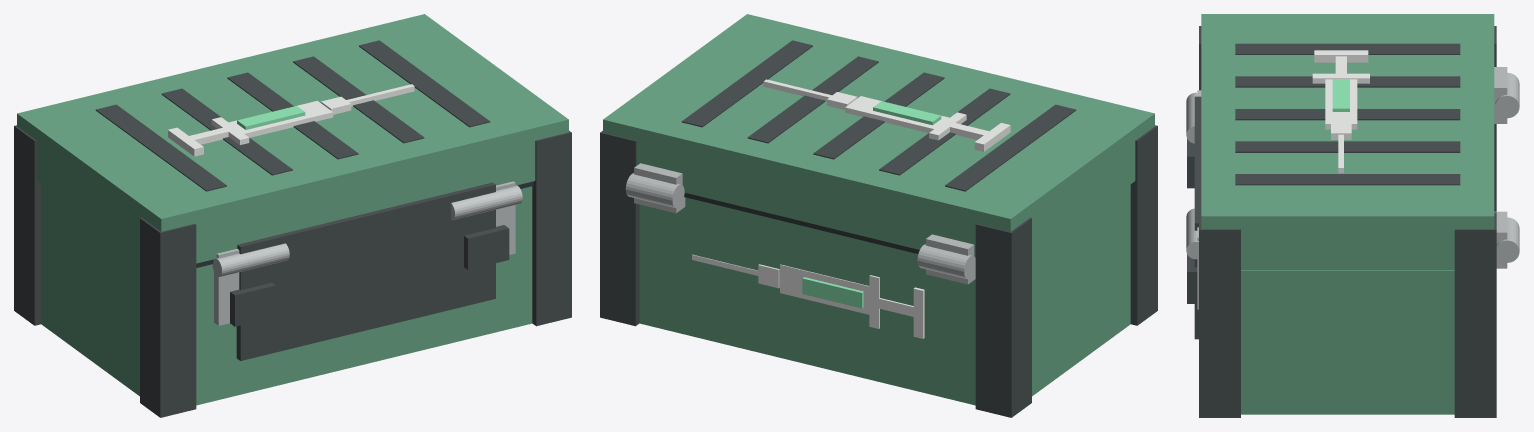
File: 12_antidote.glb
3 renders of one model, left to right at view 1: azimuth 30°, elevation 25°; view 2: azimuth 150°, elevation 25°; view 3: azimuth 270°, elevation 25°, orthographic.
Parts seen in each view (by area): view 1: Lid.002, LowerCase.002, FrontLabelPlate.002, Corner_-0.5_-0.002, Corner_0.5_-0.002, Corner_-0.5_0.002, TopRib_-0.004, TopRib_0.004, TopRib_0.005, TopRib_0.006, TopRib_-0.003, LatchTab_-0.002 (+9 smaller); view 2: Lid.002, LowerCase.002, Corner_-0.5_0.002, Corner_0.5_0.002, Corner_-0.5_-0.002, TopRib_-0.004, TopRib_0.004, TopRib_0.005, TopRib_0.006, TopRib_-0.003, SyringeTop_Barrel, HingePin_-0.003 (+11 smaller); view 3: Lid.002, LowerCase.002, Corner_0.5_0.002, Corner_0.5_-0.002, TopRib_0.004, TopRib_0.005, TopRib_-0.004, TopRib_0.006, TopRib_-0.003, FrontLabelPlate.002, SyringeTop_Barrel.001, HingePin_-0.003 (+12 smaller).
Boxes of the visible parts, box(x1,y1,x2,y2) form: Lid.002: box(17, 14, 568, 263); LowerCase.002: box(41, 184, 532, 405); FrontLabelPlate.002: box(236, 182, 495, 360); Corner_-0.5_-0.002: box(140, 217, 196, 417); Corner_0.5_-0.002: box(532, 131, 571, 326); Corner_-0.5_0.002: box(14, 125, 41, 325); TopRib_-0.004: box(95, 104, 226, 191); TopRib_0.004: box(359, 40, 490, 127); TopRib_0.005: box(293, 56, 424, 143); TopRib_0.006: box(227, 72, 358, 159); TopRib_-0.003: box(161, 88, 292, 175); LatchTab_-0.002: box(230, 282, 276, 326); Lid.002: box(603, 14, 1154, 257); LowerCase.002: box(639, 184, 1130, 405); Corner_-0.5_0.002: box(975, 217, 1031, 417); Corner_0.5_0.002: box(600, 131, 639, 326); Corner_-0.5_-0.002: box(1130, 125, 1157, 325); TopRib_-0.004: box(945, 104, 1076, 191); TopRib_0.004: box(681, 40, 812, 127); TopRib_0.005: box(747, 56, 878, 143); TopRib_0.006: box(813, 72, 944, 159); TopRib_-0.003: box(879, 88, 1010, 175); SyringeTop_Barrel: box(780, 264, 869, 314); HingePin_-0.003: box(917, 244, 975, 279); Lid.002: box(1201, 14, 1494, 270); LowerCase.002: box(1241, 270, 1454, 414); Corner_0.5_0.002: box(1454, 212, 1496, 417); Corner_0.5_-0.002: box(1199, 212, 1240, 417); TopRib_0.004: box(1235, 174, 1460, 185); TopRib_0.005: box(1235, 141, 1460, 152); TopRib_-0.004: box(1235, 43, 1460, 54); TopRib_0.006: box(1235, 109, 1460, 120); TopRib_-0.003: box(1235, 76, 1460, 87); FrontLabelPlate.002: box(1194, 96, 1201, 339); SyringeTop_Barrel.001: box(1325, 79, 1357, 129); HingePin_-0.003: box(1495, 72, 1519, 118).
Bounding box in the file's own units: 1.1 × 0.5253 × 0.7557.
